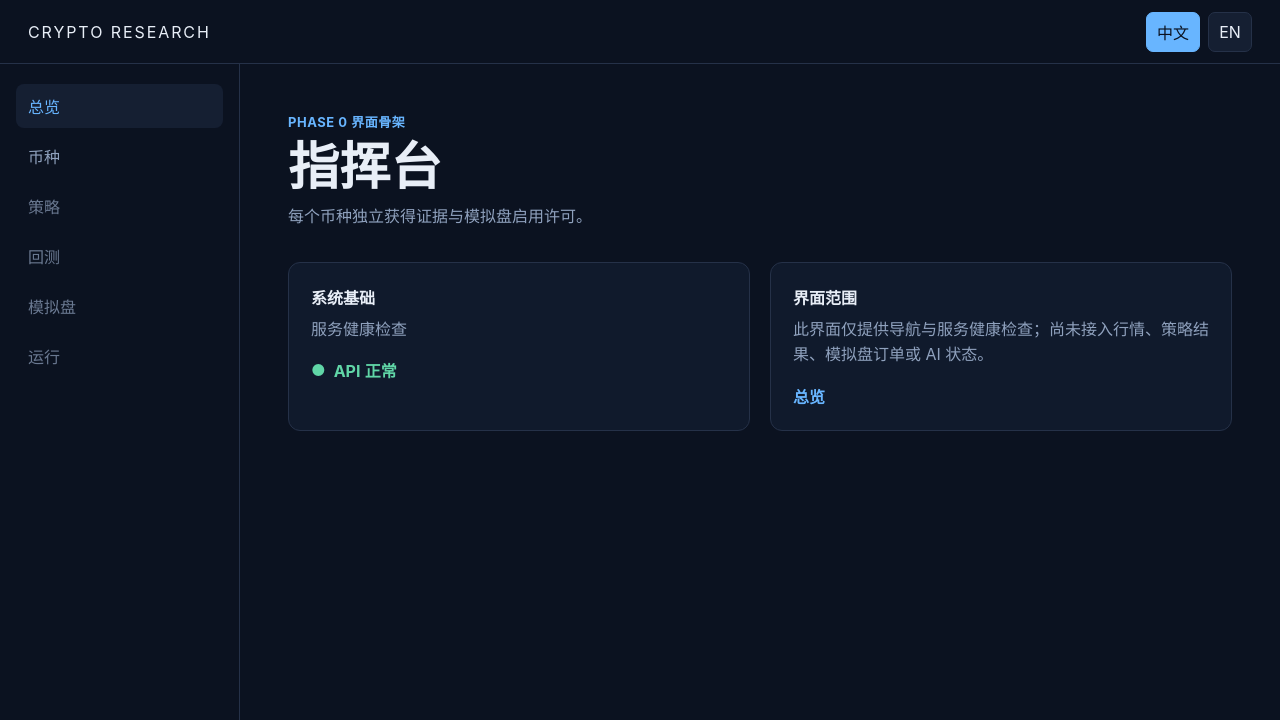
translates the symbols title, filter, and action after a persisted English switch
This screenshot has width=1280, height=720.
Click the link "币种". click: point(44, 157)
box: [28,147,60,167]
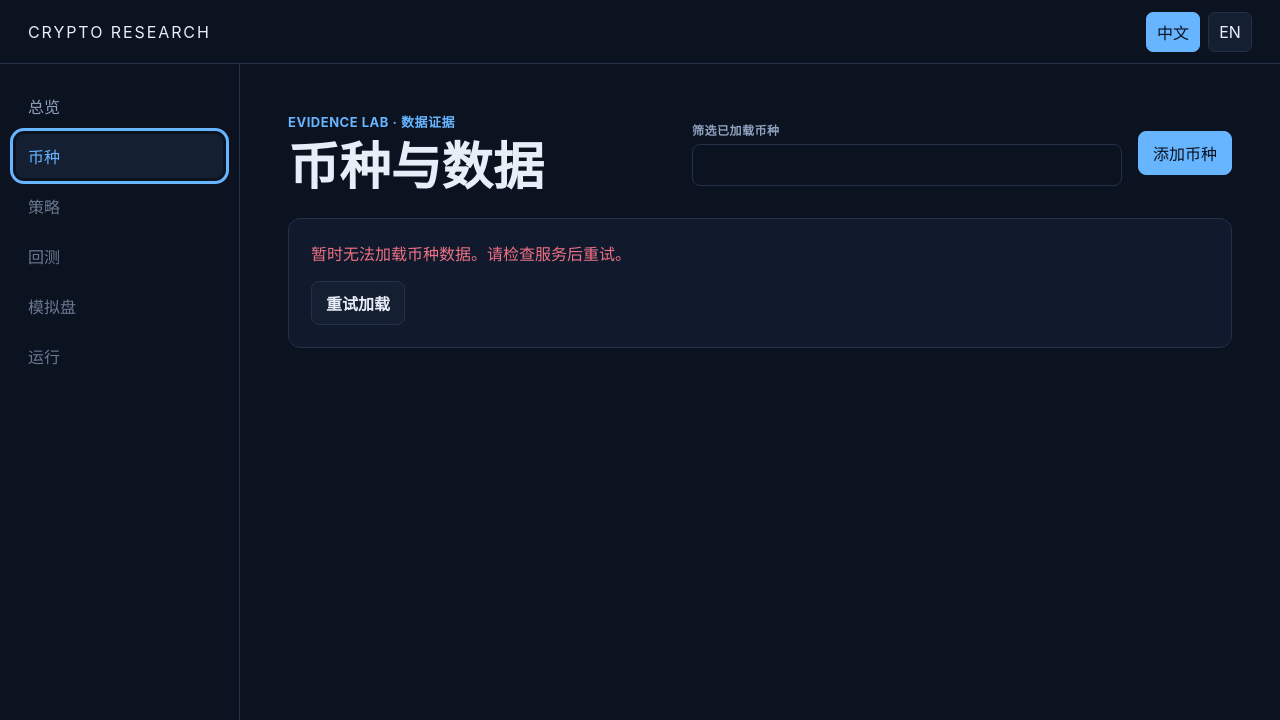
Click the button with aria-label "切换为英文". click: point(1230, 32)
box: [1208,12,1252,52]
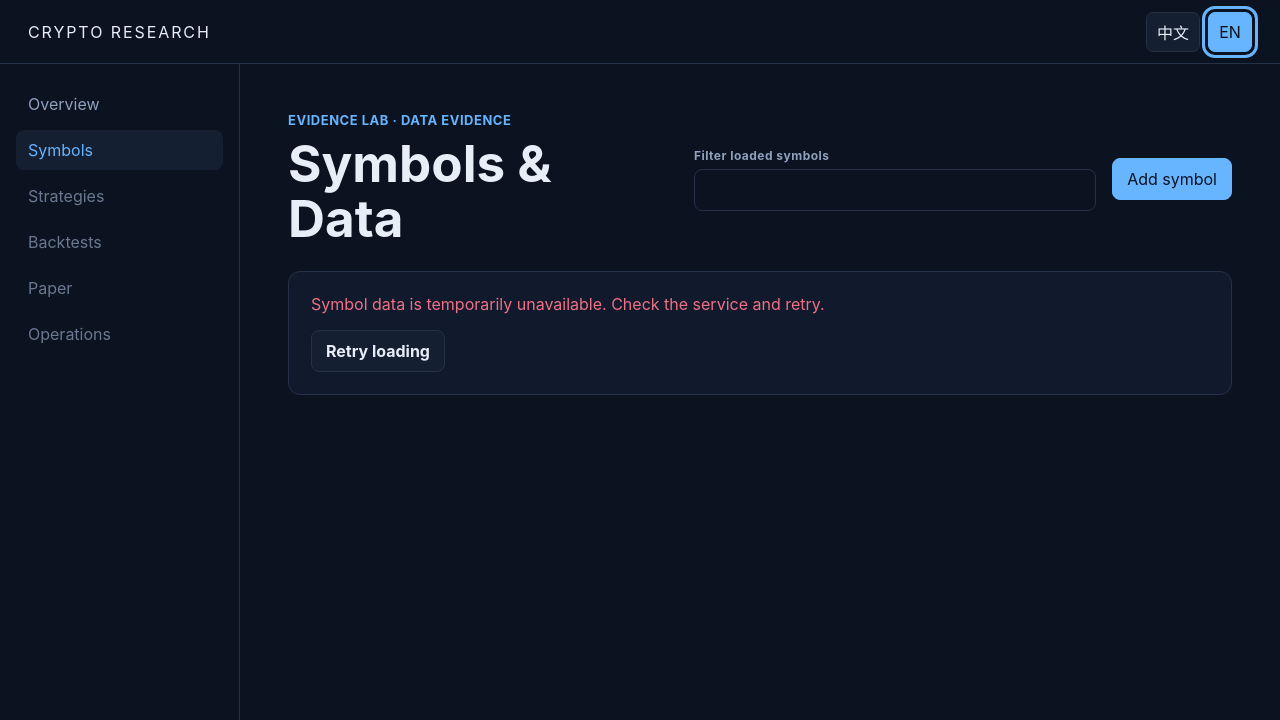
Result: the search field labelled "Filter loaded symbols" is shown at [694,169,1096,211]
Result: the heading "Symbols & Data" is shown at [288,132,552,249]
Result: the button "Add symbol" is shown at [1112,158,1232,200]
